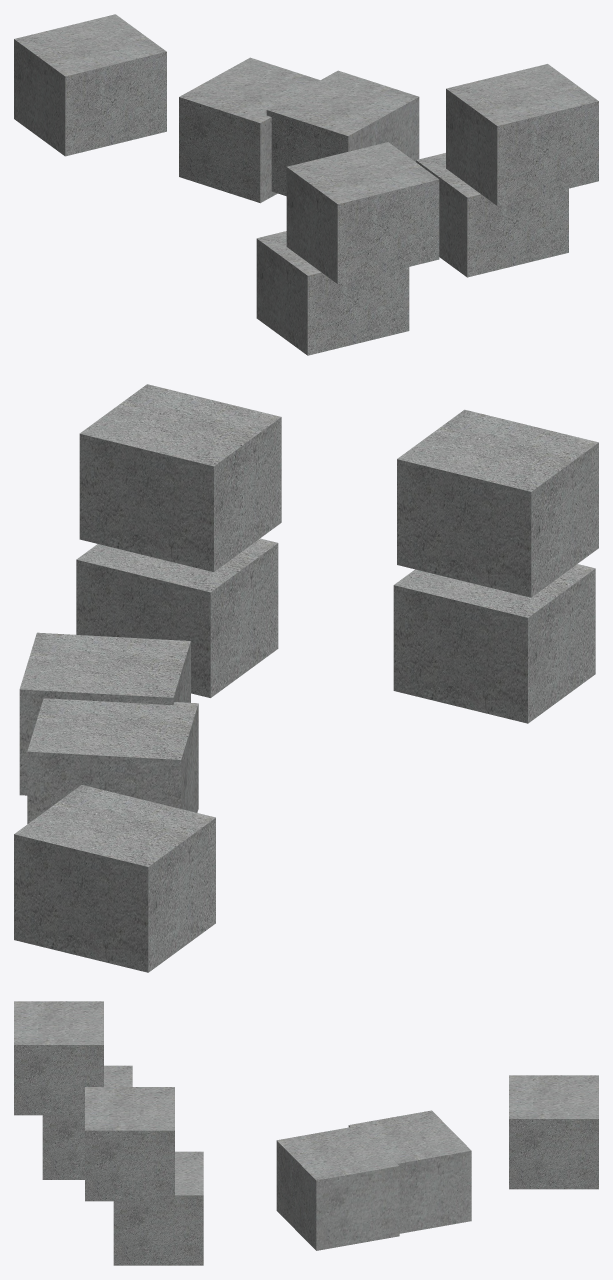
The model's file is concrete blocks.fbx.
3 renders of one model, top to bottom at view 1: azimuth 30°, elevation 25°; view 2: azimuth 150°, elevation 25°; view 3: azimuth 270°, elevation 25°, orthographic. The views are drawn at different scales.
Visible parts, largest first — view 1: small block; view 2: small block; view 3: small block.
Boxes of the visible parts, box(x1,y1,x2,y2) form: small block: box(14, 14, 598, 355); small block: box(14, 384, 598, 972); small block: box(14, 1001, 598, 1265).
Size of the model in its own units: 38.62 by 70.51 by 19.39.
Materials: 1 (1 with a texture image).
